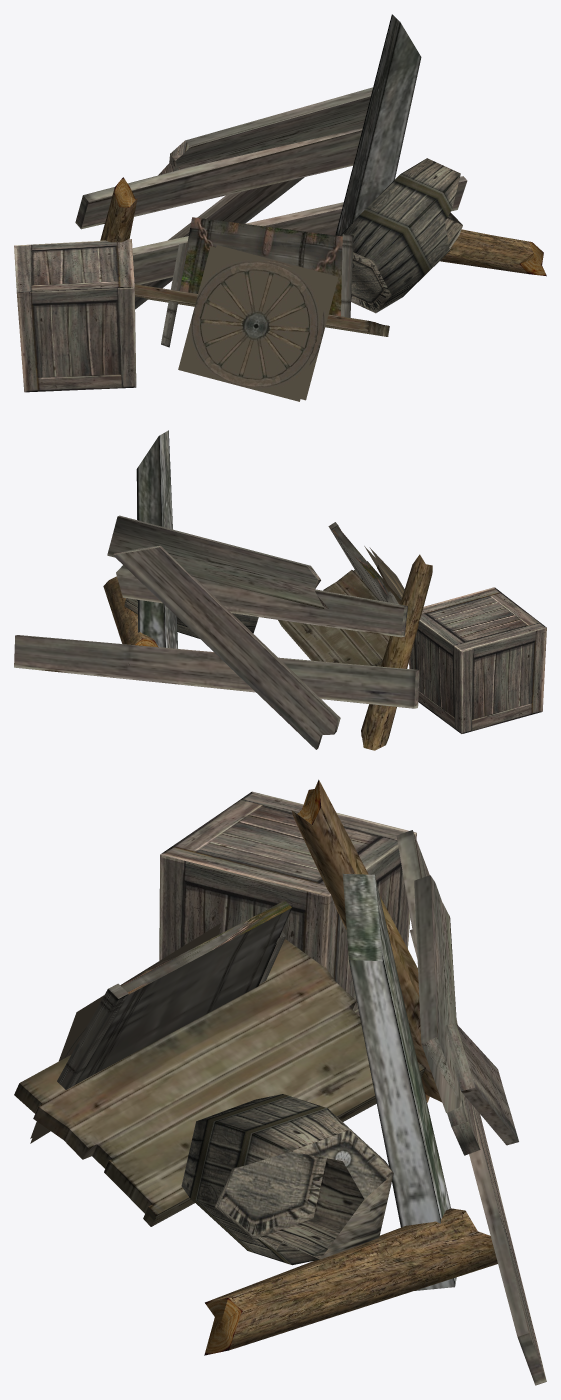
The model's file is pir_m_prp_inv_barricade01_destroyed.fbx.
3 views of the same model, one above another, from view 1: azimuth 30°, elevation 25°; view 2: azimuth 150°, elevation 25°; view 3: azimuth 270°, elevation 25° (orthographic). The views are drawn at different scales.
Parts seen in each view (by area): view 1: spokes1, polySurface1, barrelB, plank_114, craneA_arm1, plank_112, sides1, lid, plank_115, polycombine3, plank_113, CartBase (+4 smaller); view 2: plank_115, plank_113, polySurface1, plank_112, plank_114, lid, craneA_arm1, CartBase, log, polycombine3, sides1, barrelB; view 3: CartBase, barrelB, polycombine3, craneA_arm1, polySurface1, sides1, lid, plank_112, log, plank_115, plank_113, plank_114 (+3 smaller).
Boxes of the visible parts, box(x1,y1,x2,y2) form: spokes1: box(178, 246, 332, 401); polySurface1: box(16, 287, 136, 392); barrelB: box(340, 158, 462, 313); plank_114: box(75, 128, 362, 229); craneA_arm1: box(335, 14, 421, 235); plank_112: box(158, 87, 372, 175); sides1: box(179, 217, 342, 316); lid: box(14, 239, 134, 292); plank_115: box(132, 176, 467, 284); polycombine3: box(440, 229, 546, 276); plank_113: box(135, 177, 304, 309); CartBase: box(134, 284, 389, 336); plank_115: box(14, 635, 419, 708); plank_113: box(113, 545, 340, 749); polySurface1: box(409, 620, 546, 733); plank_112: box(107, 515, 328, 608); plank_114: box(116, 565, 407, 637); lid: box(419, 587, 546, 651); craneA_arm1: box(136, 430, 177, 648); CartBase: box(278, 561, 401, 666); log: box(361, 554, 432, 750); polycombine3: box(103, 576, 158, 664); sides1: box(332, 527, 389, 602); barrelB: box(124, 598, 258, 638); CartBase: box(14, 939, 425, 1226); barrelB: box(181, 1094, 393, 1265); polycombine3: box(204, 1208, 510, 1355); craneA_arm1: box(342, 873, 456, 1290); polySurface1: box(159, 833, 416, 1016); sides1: box(75, 900, 291, 1084); lid: box(160, 791, 416, 896); plank_112: box(414, 875, 461, 1112); log: box(291, 779, 441, 1102); plank_115: box(410, 929, 546, 1385); plank_113: box(446, 1023, 518, 1145); plank_114: box(396, 830, 480, 1155).
Size of the model in its own units: 2612 by 1303 by 1403.
Materials: 2 (2 with a texture image).
